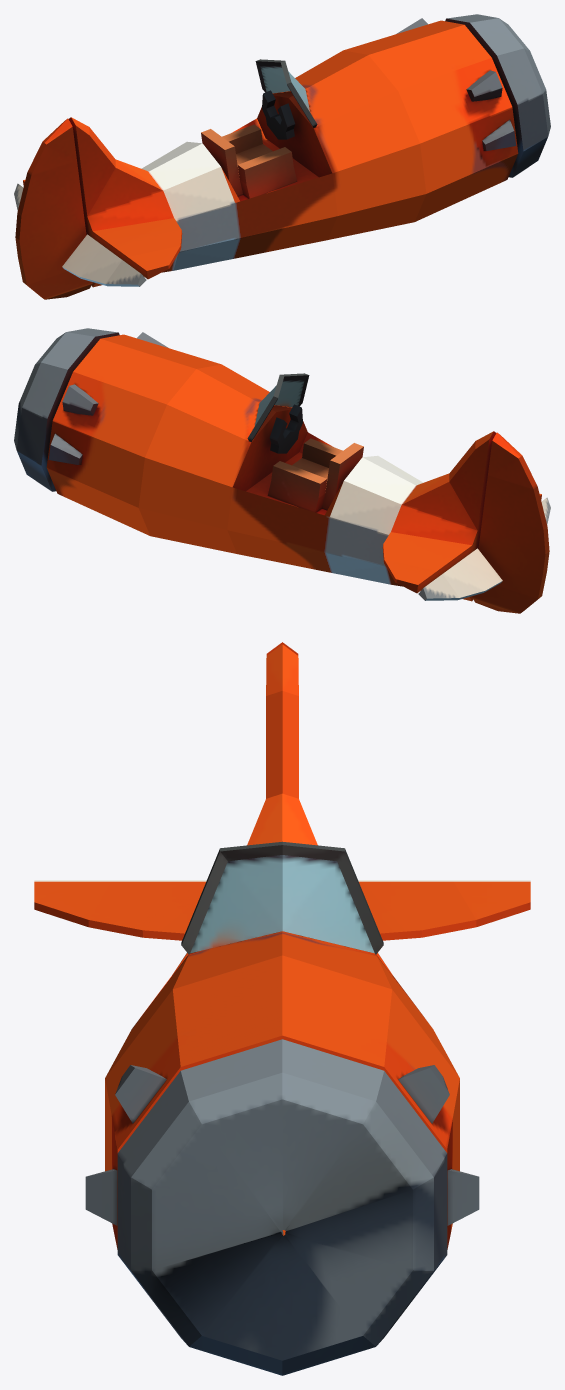
File: airplane_without_wheels_screw_wings.glb
3 views of the same model, one above another, from view 1: azimuth 30°, elevation 25°; view 2: azimuth 150°, elevation 25°; view 3: azimuth 270°, elevation 25° (orthographic). The views are drawn at different scales.
Parts seen in each view (by area): view 1: PUSHILIN_Plane_Circle.000; view 2: PUSHILIN_Plane_Circle.000; view 3: PUSHILIN_Plane_Circle.000.
Part boxes in pixels (box(x1,y1,x2,y2)): PUSHILIN_Plane_Circle.000: box(14, 14, 550, 299); PUSHILIN_Plane_Circle.000: box(14, 328, 550, 613); PUSHILIN_Plane_Circle.000: box(34, 642, 530, 1375).
Size of the model in its own units: 2.29 by 0.7909 by 0.9704.
Materials: 1 (1 with a texture image).
